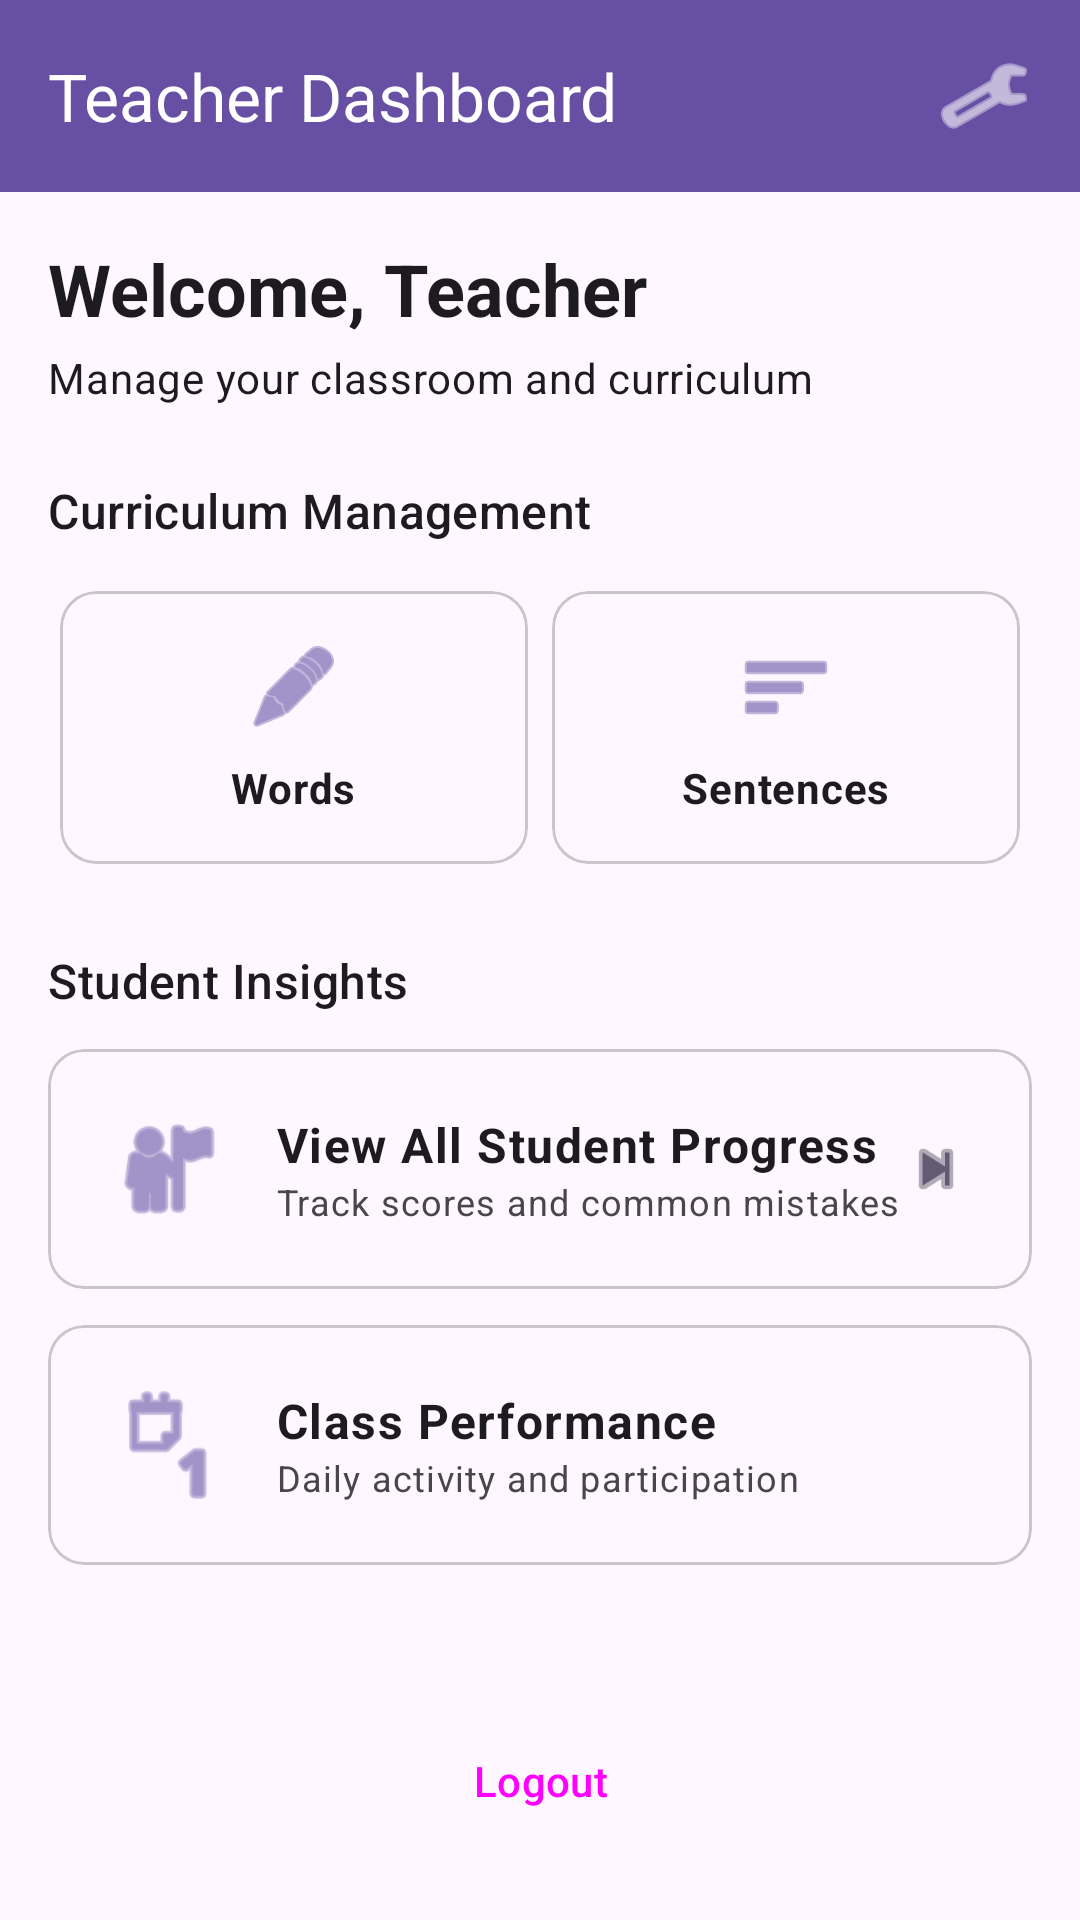

Screen size 1080×1920. Icon name, then its box in pixels as [left=x1, top=y1, right=x2, bottom=y2]:
day: [left=128, top=1391, right=207, bottom=1499]
edit: [left=253, top=646, right=334, bottom=727]
myplaces: [left=124, top=1124, right=214, bottom=1214]
next: [left=919, top=1149, right=953, bottom=1189]
Settings: [left=941, top=63, right=1027, bottom=129]
sort by size: [left=745, top=661, right=827, bottom=714]
